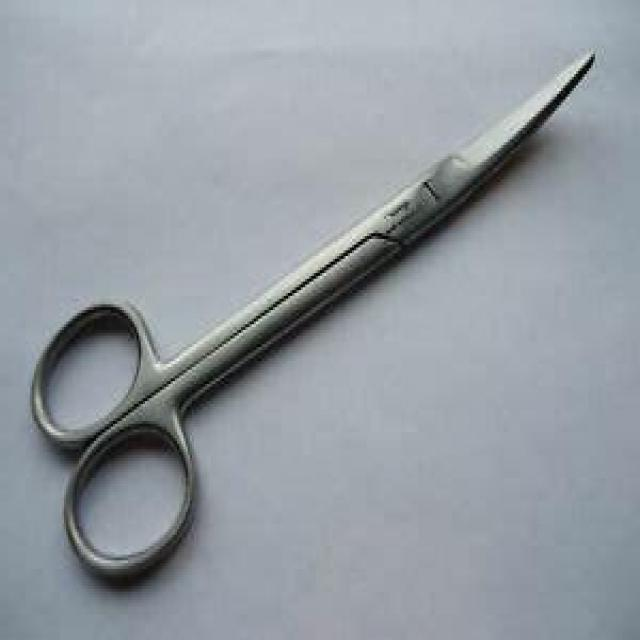Mayo_metz: (25, 46, 598, 594)
